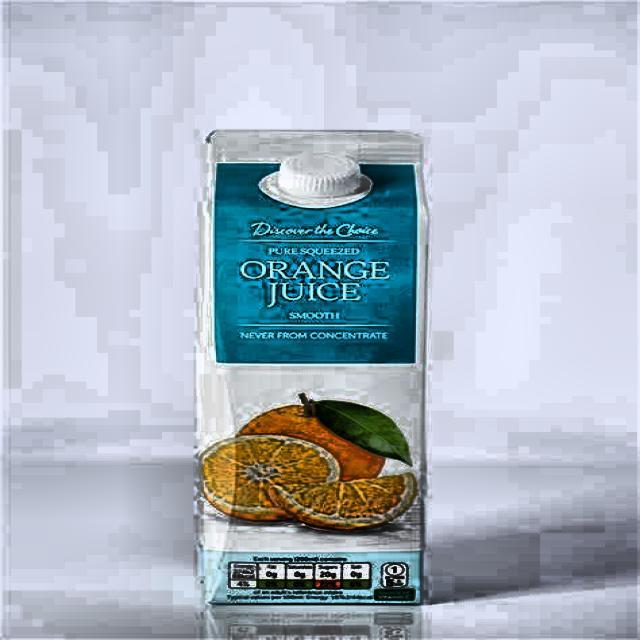cardboard: (194, 129, 428, 605)
